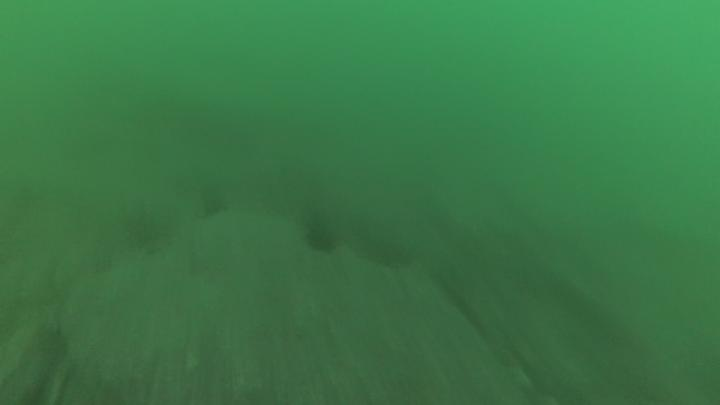echinus: (301, 219, 340, 257), (195, 185, 232, 221)
